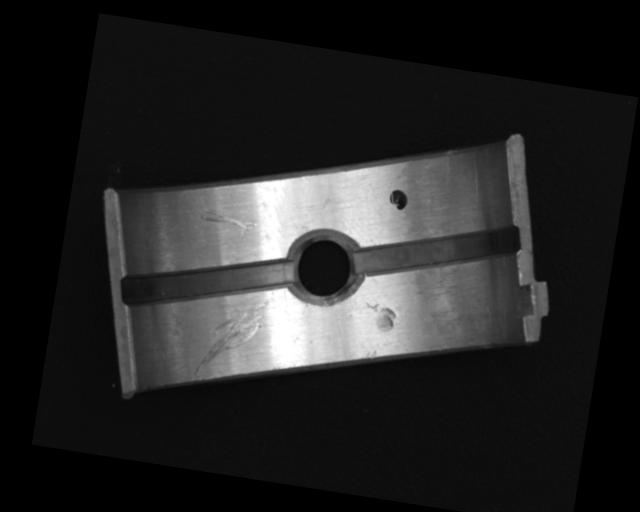blot: (386, 188, 410, 212)
bruise: (362, 302, 397, 334), (360, 346, 378, 361)
gap: (118, 237, 296, 330), (353, 201, 521, 297)
hole: (284, 224, 363, 308)
nick: (196, 288, 272, 385), (198, 209, 258, 233)
